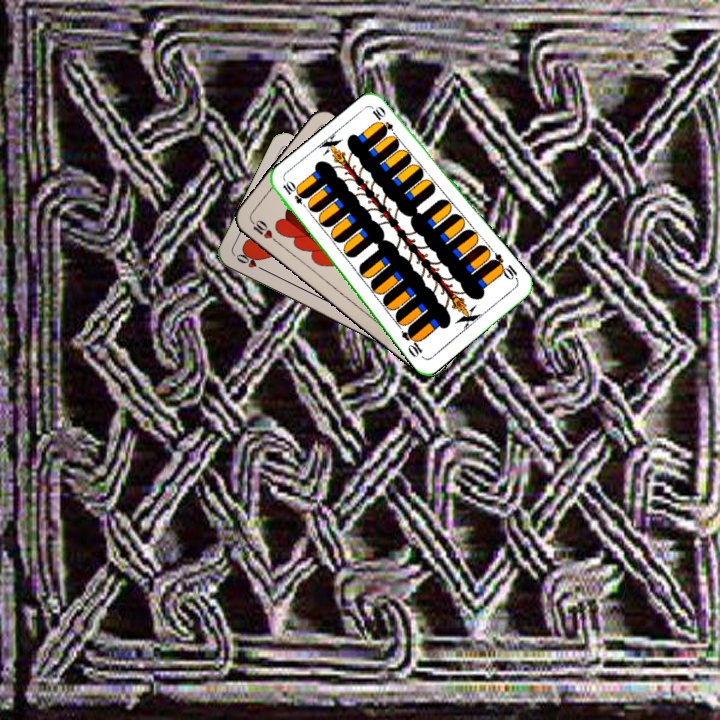E10: (487, 249, 521, 284), (279, 177, 312, 213)
H10: (247, 216, 281, 246)
HO: (232, 249, 269, 274)
